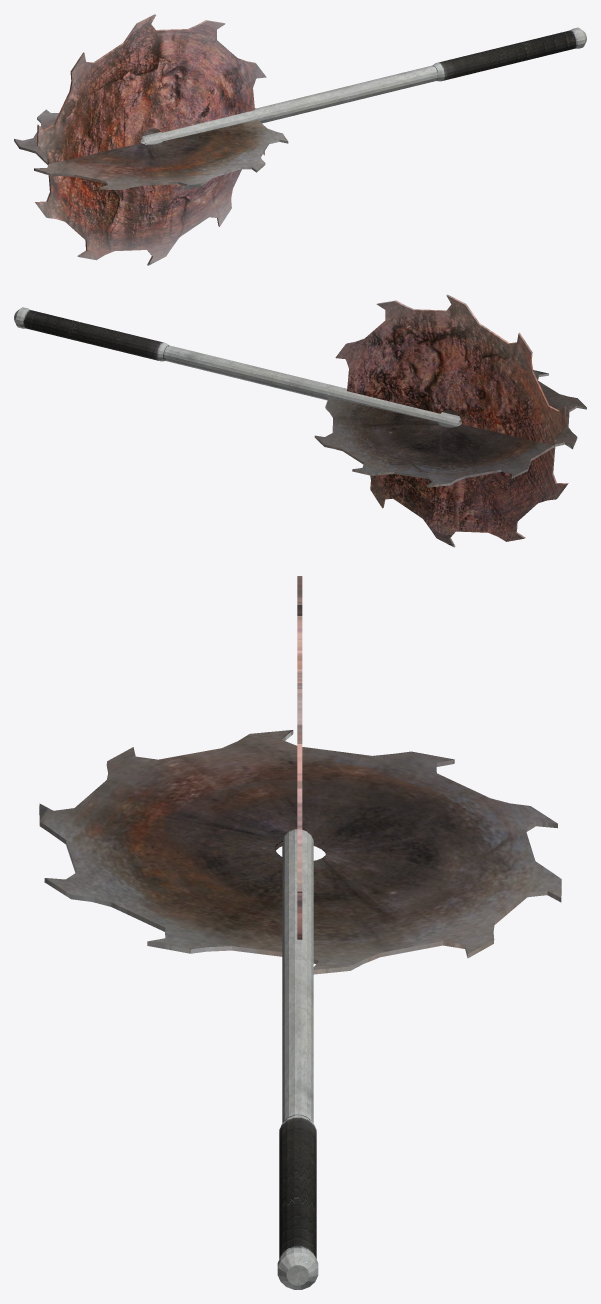
The model's file is Mace.FBX.
3 views of the same model, one above another, from view 1: azimuth 30°, elevation 25°; view 2: azimuth 150°, elevation 25°; view 3: azimuth 270°, elevation 25° (orthographic). The views are drawn at different scales.
Visible parts, largest first — view 1: Mace; view 2: Mace; view 3: Mace.
Boxes of the visible parts, x1,y1,x2,y2 form: Mace: (14, 14, 586, 265); Mace: (14, 294, 586, 547); Mace: (39, 576, 561, 1289).
Bounding box in the file's own units: 18.11 × 7.81 × 7.43.
1 material, 1 textured.
